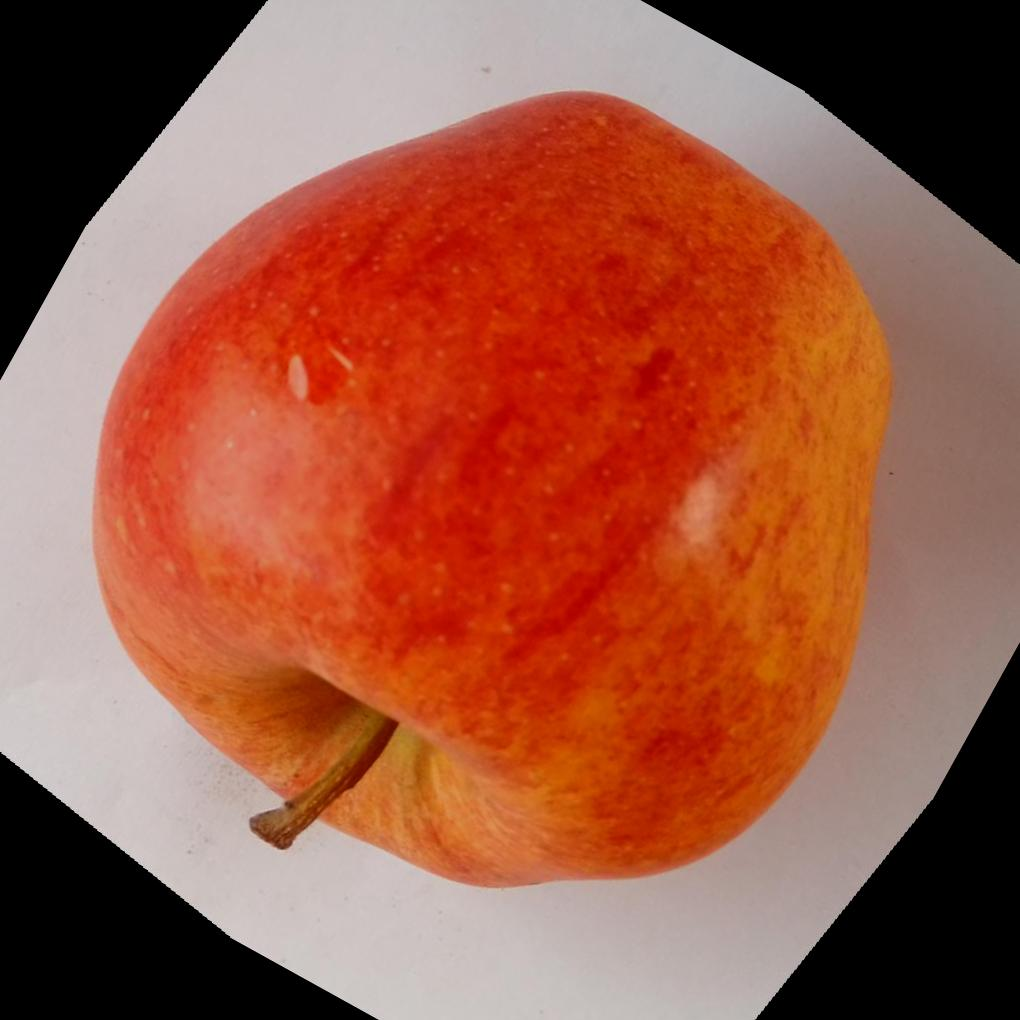FreshGuava: (90, 86, 896, 887)
